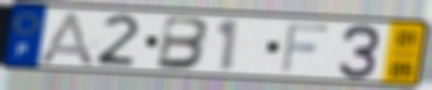1: (214, 17, 241, 74)
2: (95, 12, 143, 69)
3: (335, 22, 384, 81)
A: (34, 9, 99, 69)
B: (153, 14, 214, 71)
F: (277, 21, 333, 75)
